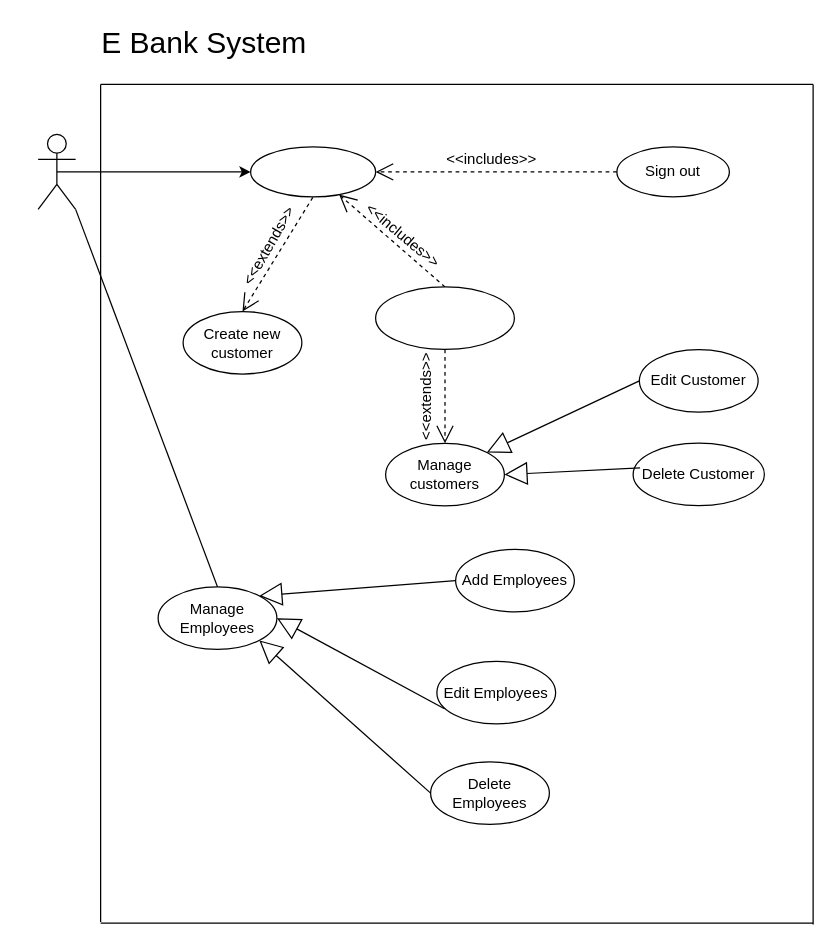
Image size: 836x948. Some labels were removed from this diagram. The shapes that lost their labels are listed below. From the top down, each one's centre as x and y in pixels, then its label:
At (56,171): "Bank Employee".
At (312,171): "Sign in".
At (444,317): "View customer list".
